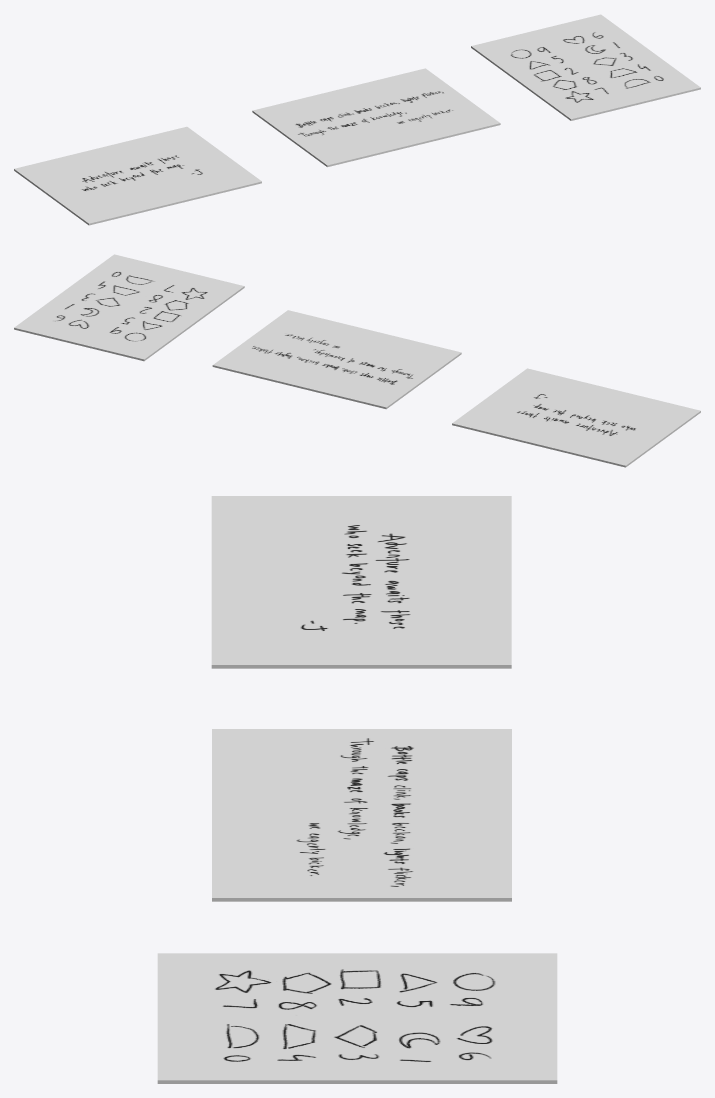
Rendered from L2_notes.fbx.
3 views of the same model, one above another, from view 1: azimuth 30°, elevation 25°; view 2: azimuth 150°, elevation 25°; view 3: azimuth 270°, elevation 25° (orthographic). The views are drawn at different scales.
Parts seen in each view (by area): view 1: Box001, Box003, Box002; view 2: Box001, Box003, Box002; view 3: Box002, Box003, Box001.
Boxes of the visible parts, x1,y1,x2,y2 form: Box001: [252, 68, 500, 167]; Box003: [14, 126, 261, 225]; Box002: [471, 14, 700, 120]; Box001: [212, 310, 461, 409]; Box003: [452, 368, 700, 467]; Box002: [14, 254, 244, 361]; Box002: [157, 953, 557, 1083]; Box003: [211, 496, 511, 668]; Box001: [212, 729, 511, 901].
Size of the model in its own units: 27.21 by 0.0787 by 7.87.
Materials: 3 (3 with a texture image).
